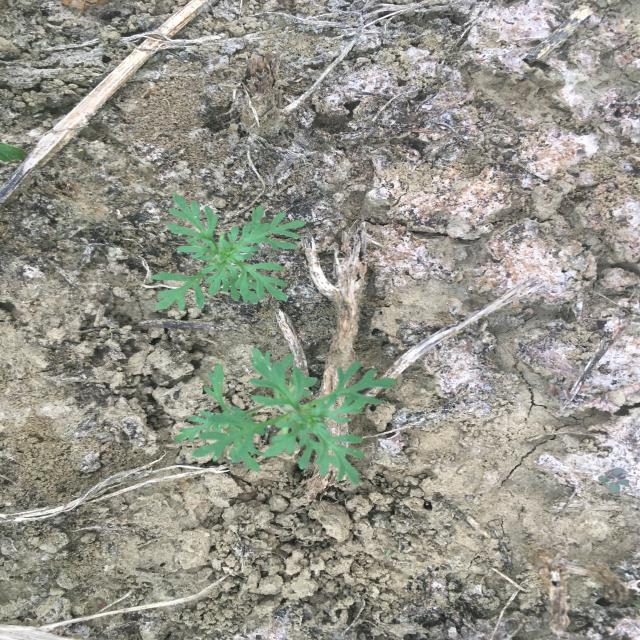Ragweed: (172, 346, 400, 487), (149, 193, 308, 314)
